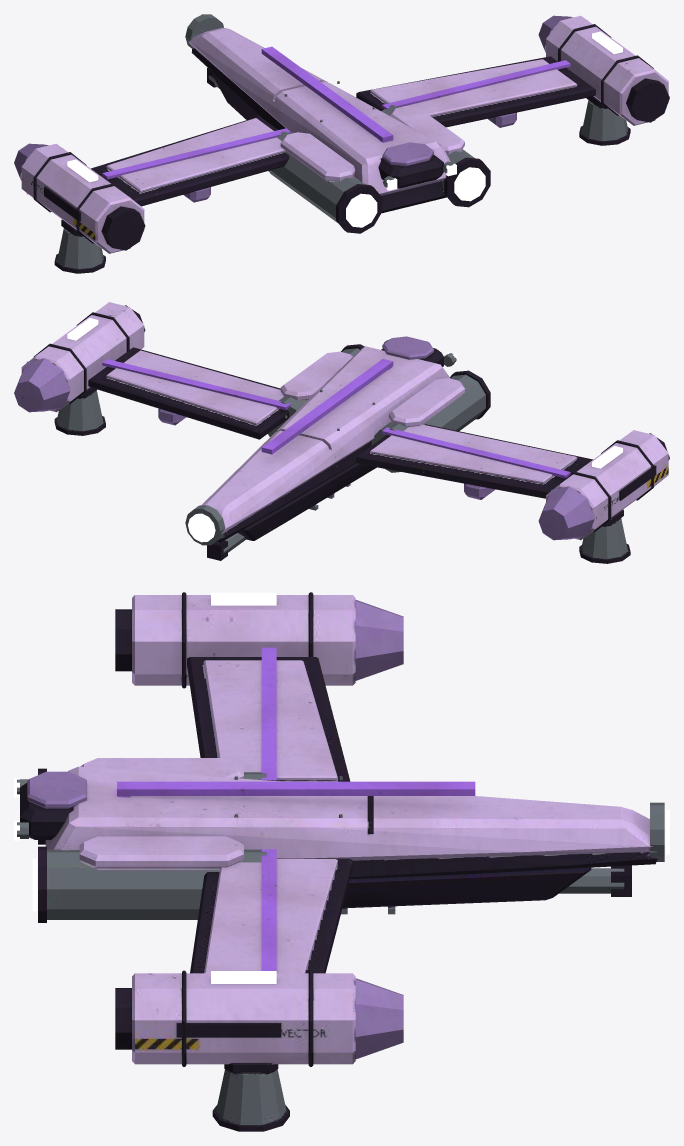
Rendered from kite.glb.
3 views of the same model, one above another, from view 1: azimuth 30°, elevation 25°; view 2: azimuth 150°, elevation 25°; view 3: azimuth 270°, elevation 25° (orthographic). The views are drawn at different scales.
Parts seen in each view (by area): view 1: body|base|, wingL|base|, wingR|base|, tail|base|, body|base|thrust; view 2: body|base|, wingL|base|, wingR|base|, tail|base|, body|base|eye, gun|base|; view 3: body|base|, wingR|base|, wingL|base|, tail|base|, gun|base|, wingL|base|tip, wingR|base|tip.
Boxes of the visible parts, bbox=[...] form: body|base|: bbox=[185, 14, 490, 233]; wingL|base|: bbox=[14, 116, 290, 273]; wingR|base|: bbox=[356, 15, 669, 145]; tail|base|: bbox=[378, 142, 453, 188]; body|base|thrust: bbox=[346, 167, 485, 227]; body|base|: bbox=[185, 344, 490, 545]; wingL|base|: bbox=[356, 424, 669, 563]; wingR|base|: bbox=[14, 302, 290, 439]; tail|base|: bbox=[381, 336, 456, 366]; body|base|eye: bbox=[188, 513, 215, 542]; gun|base|: bbox=[207, 533, 245, 560]; body|base|: bbox=[38, 758, 664, 922]; wingR|base|: bbox=[115, 849, 403, 1131]; wingL|base|: bbox=[115, 592, 403, 781]; tail|base|: bbox=[17, 771, 86, 839]; gun|base|: bbox=[559, 865, 631, 896]; wingL|base|tip: bbox=[211, 592, 276, 605]; wingR|base|tip: bbox=[211, 971, 276, 983].
Bounding box in the file's own units: 6.6 × 1.06 × 4.4.
4 materials, 1 textured.
